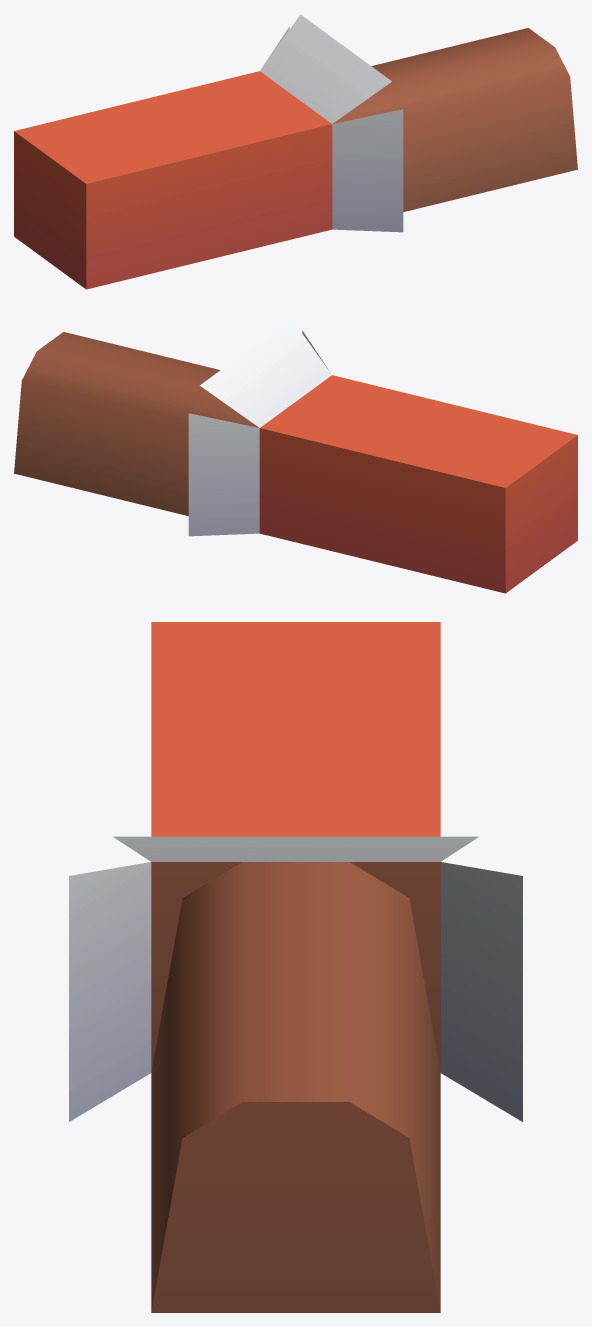
The model's file is candy-bar-wrapper.glb.
3 views of the same model, one above another, from view 1: azimuth 30°, elevation 25°; view 2: azimuth 150°, elevation 25°; view 3: azimuth 270°, elevation 25° (orthographic). The views are drawn at different scales.
Visible parts, largest first — view 1: candy-bar-wrapper; view 2: candy-bar-wrapper; view 3: candy-bar-wrapper.
Part boxes in pixels (<box>): candy-bar-wrapper: <box>14,14,577,289</box>; candy-bar-wrapper: <box>14,318,577,593</box>; candy-bar-wrapper: <box>69,622,522,1312</box>.
Size of the model in its own units: 0.2924 by 0.0812 by 0.1169.
1 material, 1 textured.
